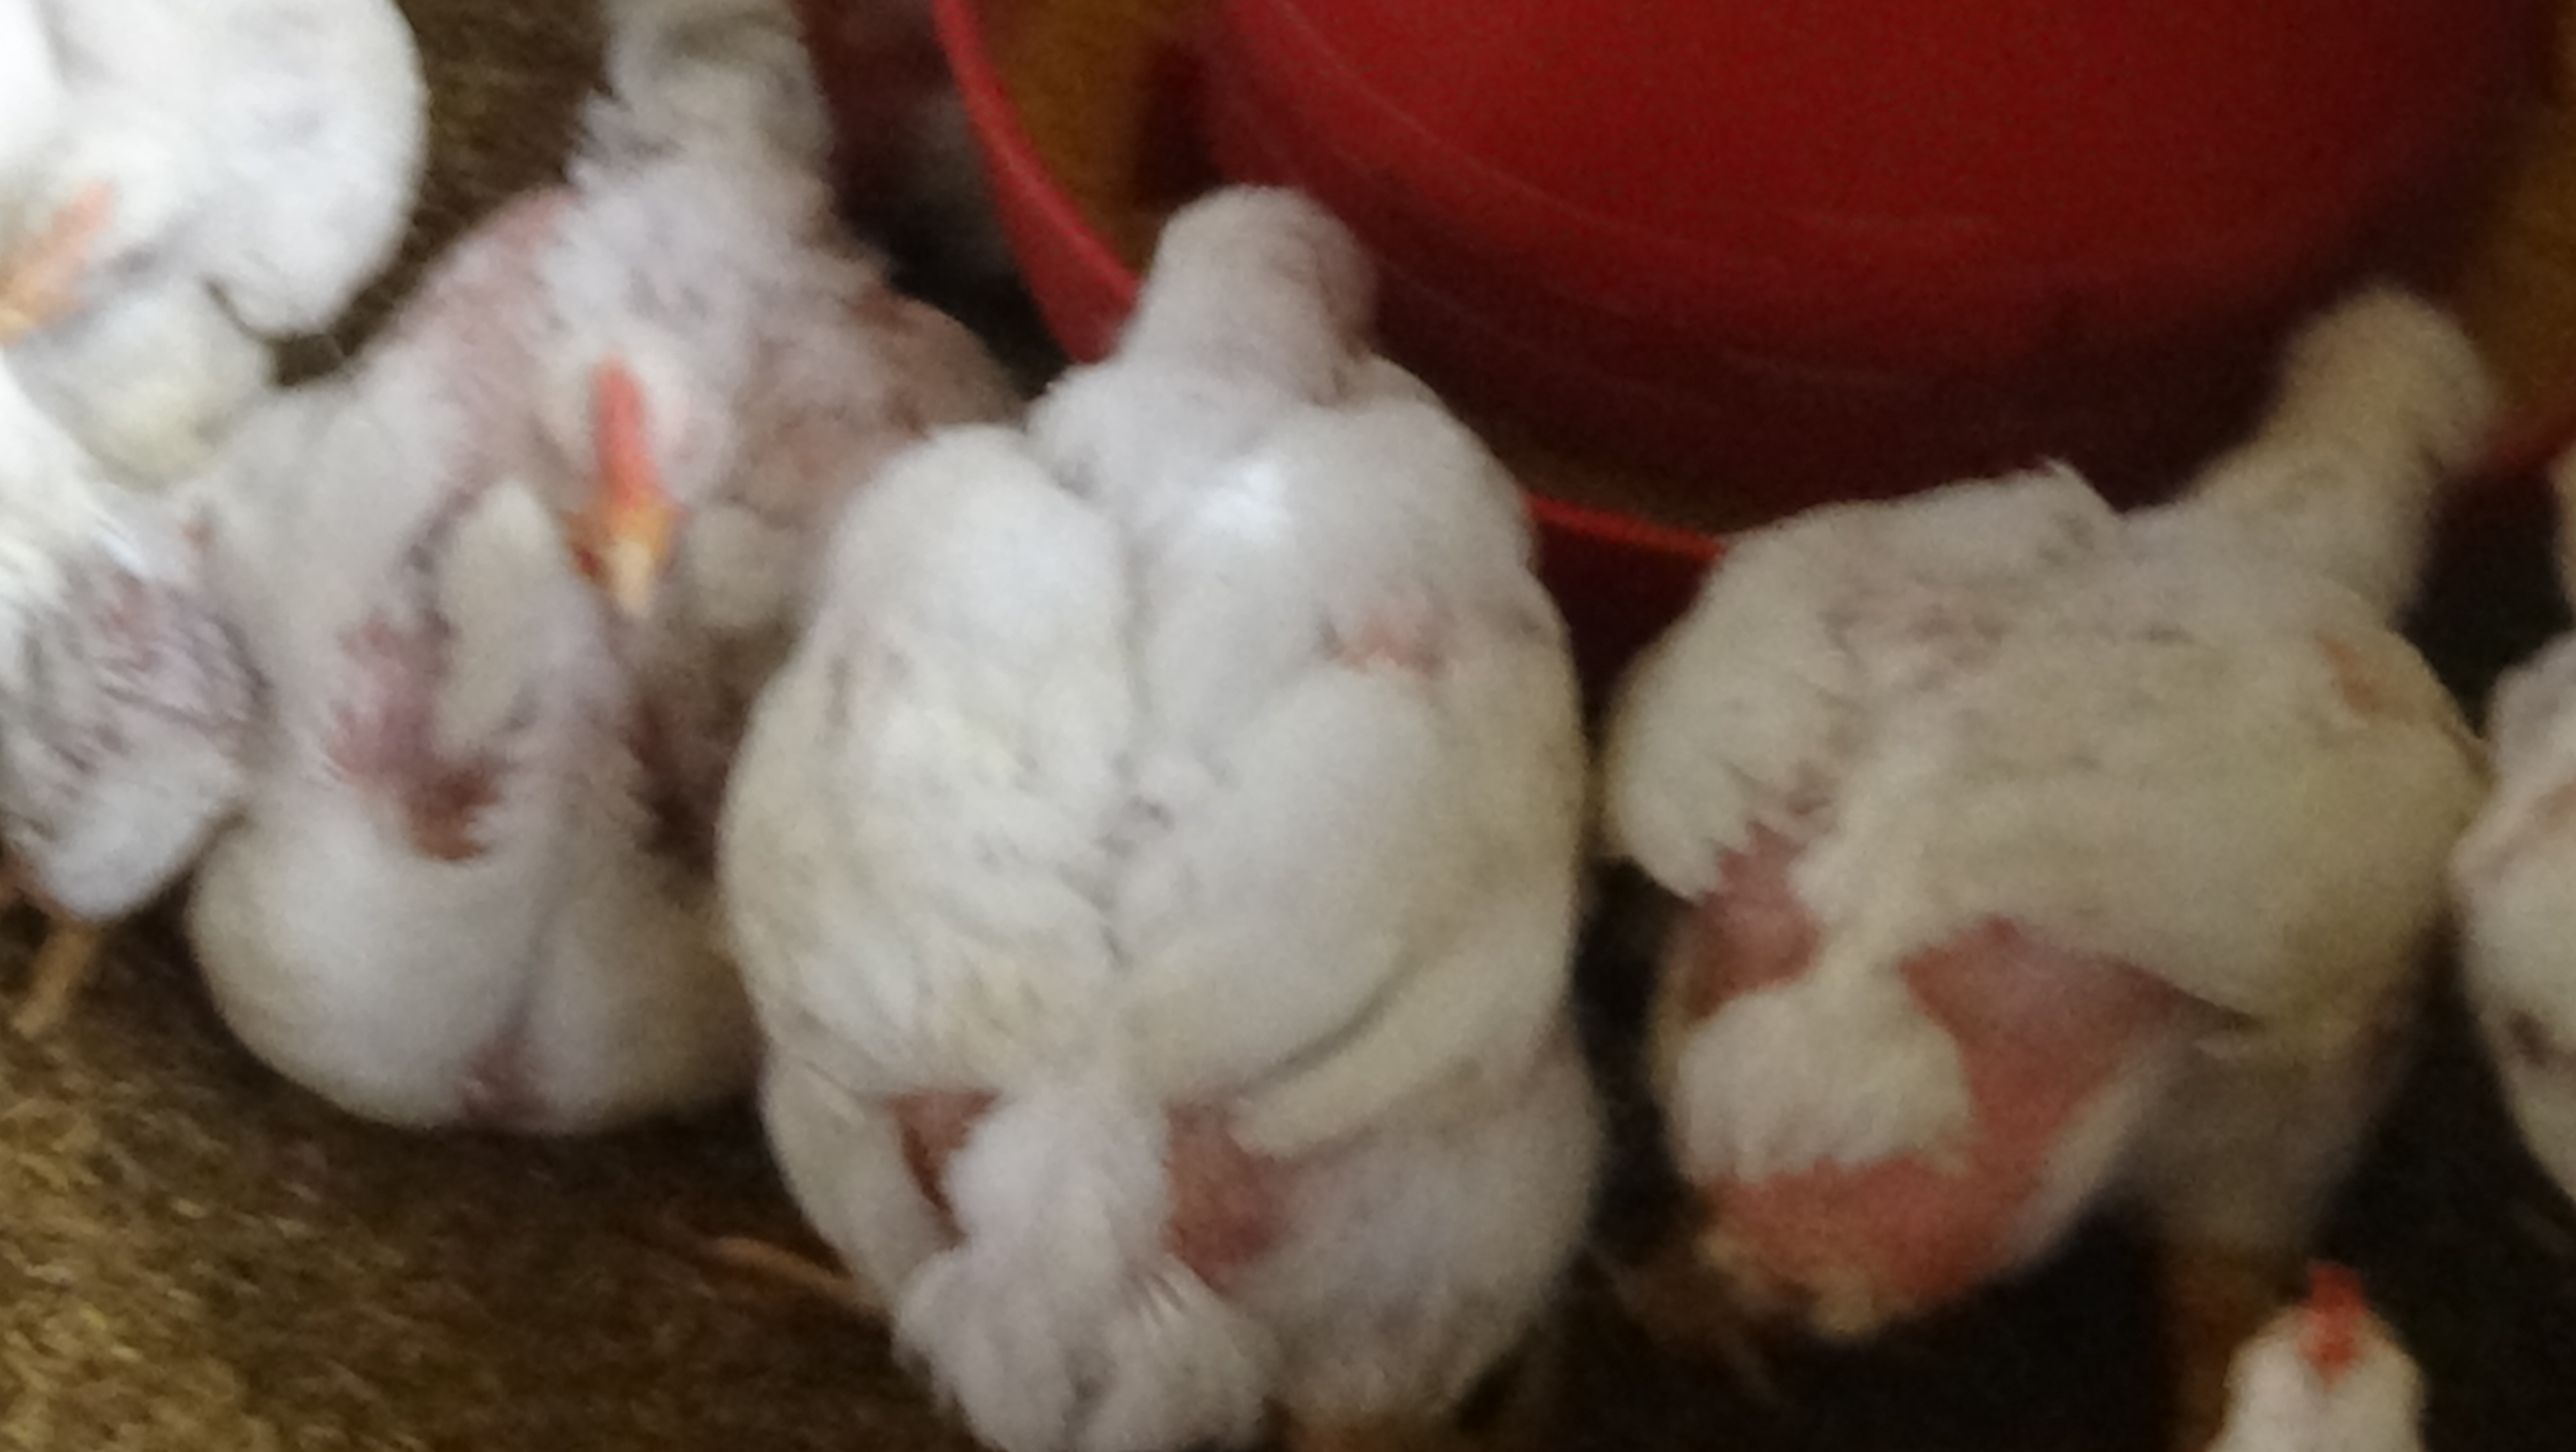Pollos: (718, 166, 1610, 1450), (1575, 264, 2558, 1362), (122, 0, 1063, 1140), (0, 0, 426, 1103)
